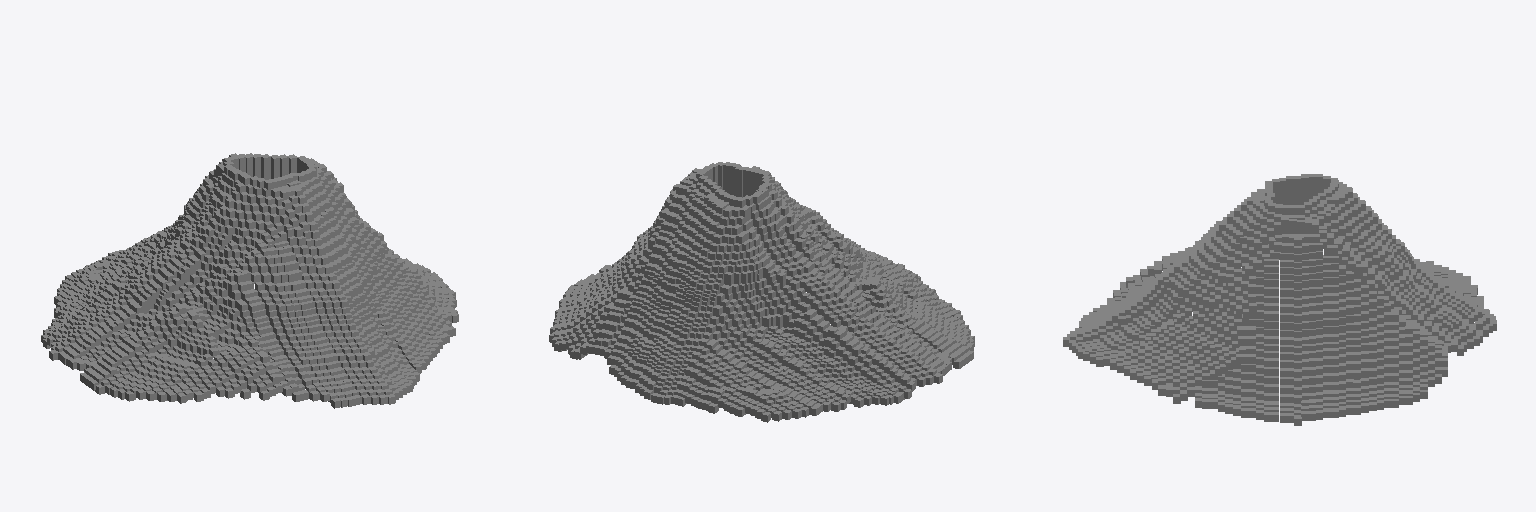
Rendered from volvan_Voxel_Op.obj.
The picture shows the model from 3 angles: view 1: azimuth 30°, elevation 25°; view 2: azimuth 150°, elevation 25°; view 3: azimuth 270°, elevation 25°; orthographic projection.
Parts seen in each view (by area): view 1: Box3306; view 2: Box3306; view 3: Box3306.
Boxes of the visible parts, x1,y1,x2,y2 form: Box3306: [41, 153, 458, 408]; Box3306: [549, 162, 974, 422]; Box3306: [1063, 174, 1496, 425].
Bounding box in the file's own units: 75.73 × 29.51 × 75.15.